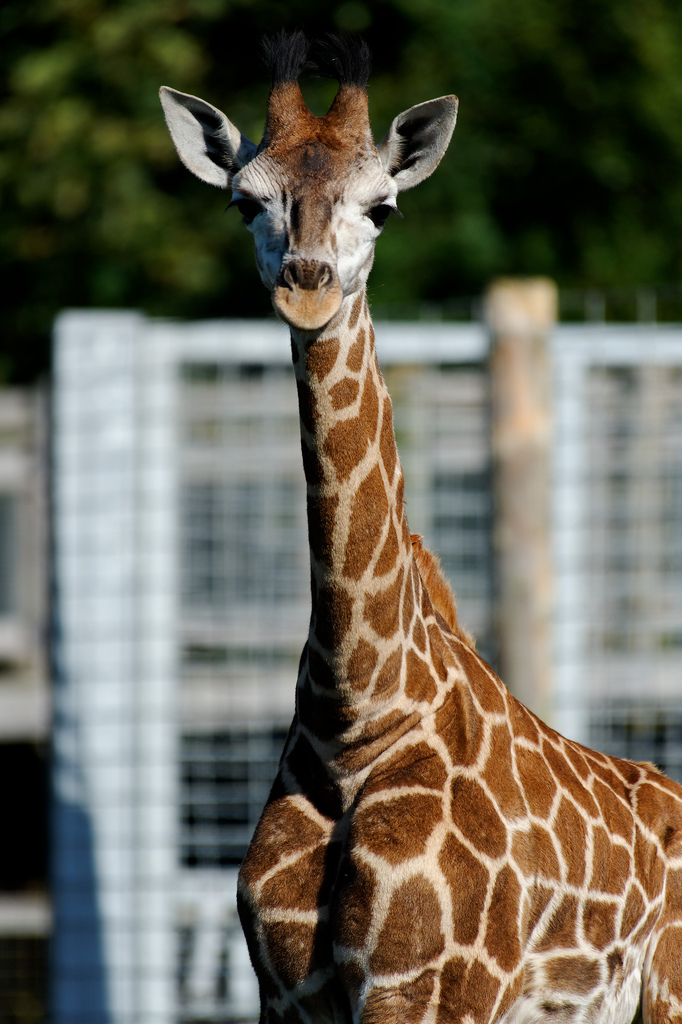giraffe: (150, 60, 662, 986)
